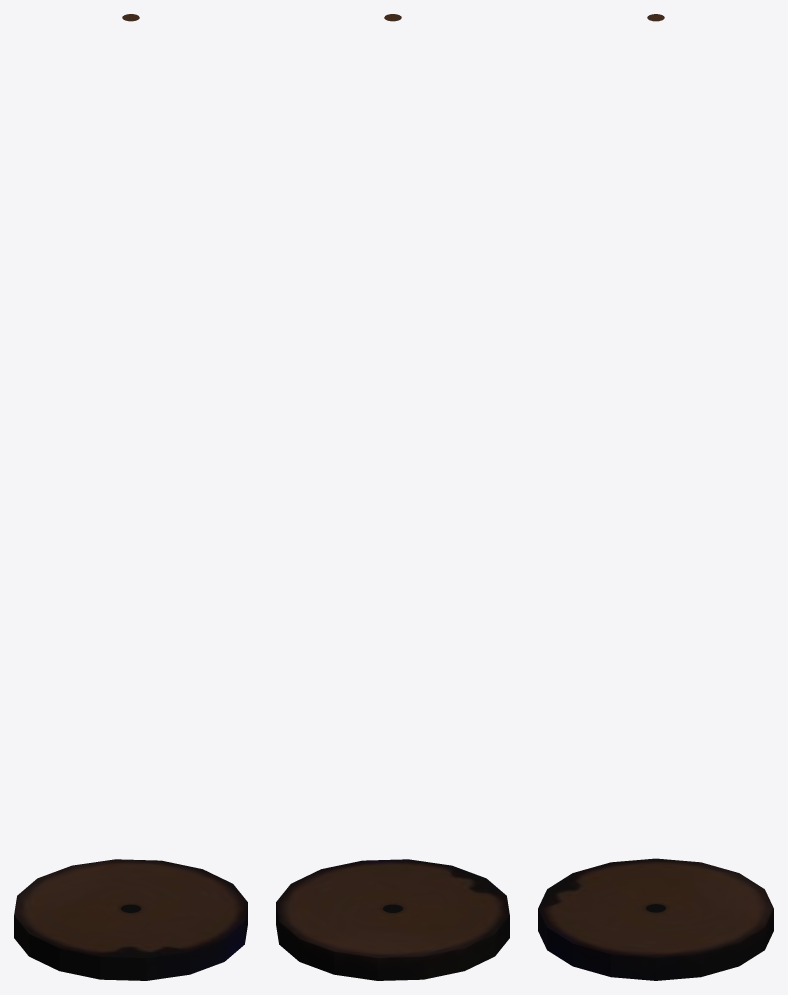
The model's file is lamp_base.glb.
3 views of the same model, side by side, from view 1: azimuth 30°, elevation 25°; view 2: azimuth 150°, elevation 25°; view 3: azimuth 270°, elevation 25° (orthographic).
Visible parts, largest first — view 1: lamp_base; view 2: lamp_base; view 3: lamp_base.
Boxes of the visible parts, left/top/right/bottom form: lamp_base: left=14, top=14, right=247, bottom=980; lamp_base: left=276, top=14, right=509, bottom=980; lamp_base: left=538, top=14, right=773, bottom=980.
Bounding box in the file's own units: 2.57 × 11 × 2.57.
1 material, 1 textured.
